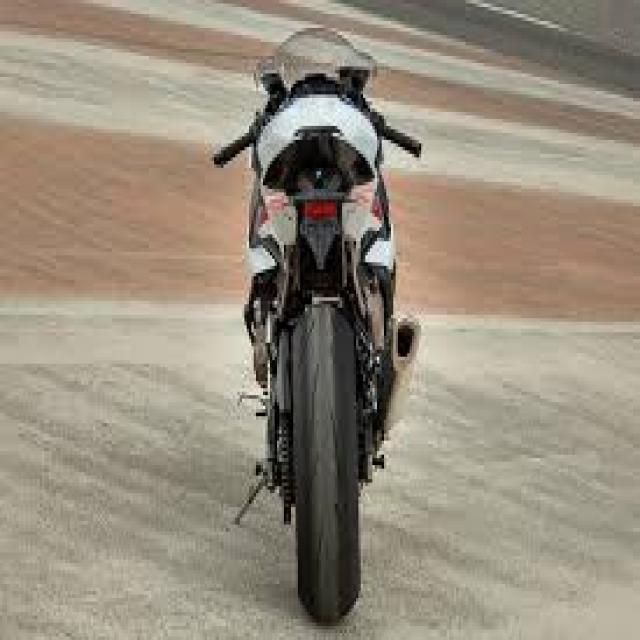bike: (211, 21, 423, 629)
